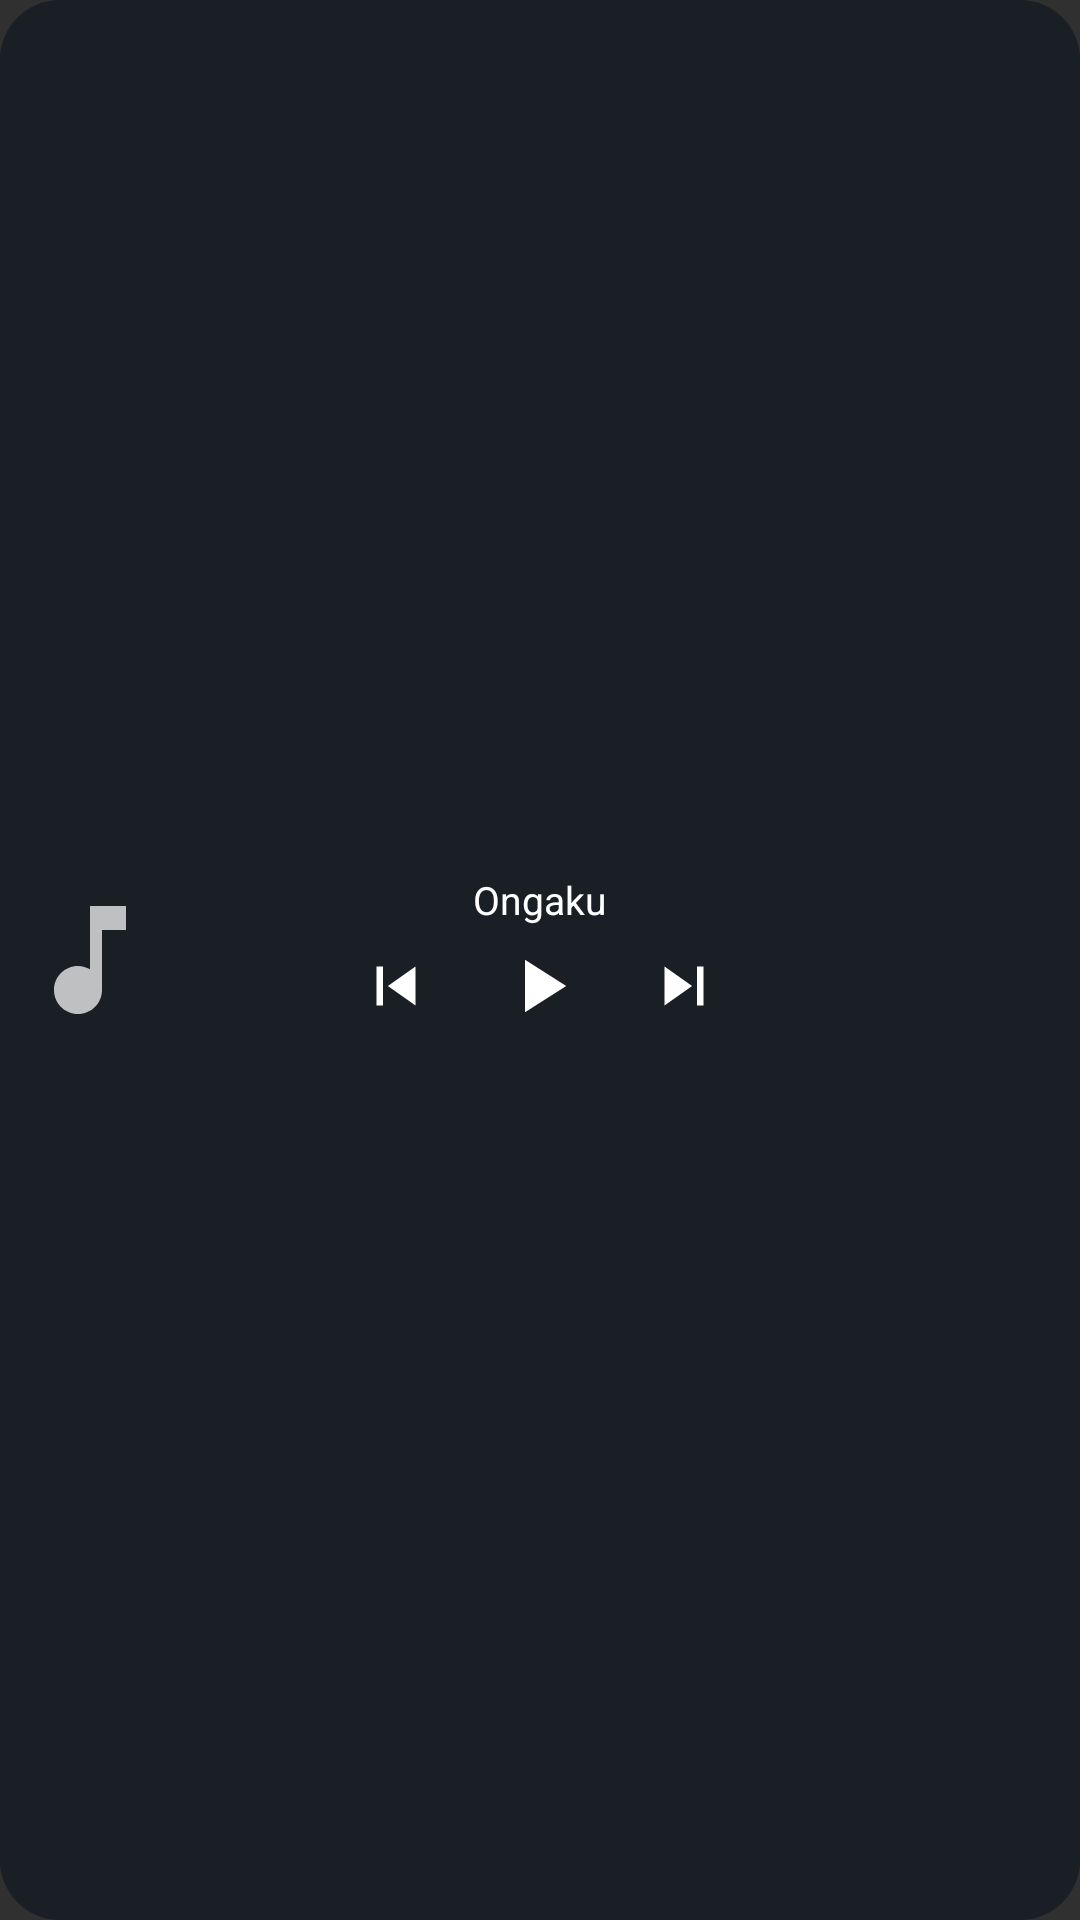

Icons on this 1080 x 1920 Android screen, each with the point to tap as (x=x, y=y):
Lecture ou pause: (x=545, y=986)
Précédent: (x=396, y=986)
Suivant: (x=684, y=986)
widget note: (x=90, y=960)
